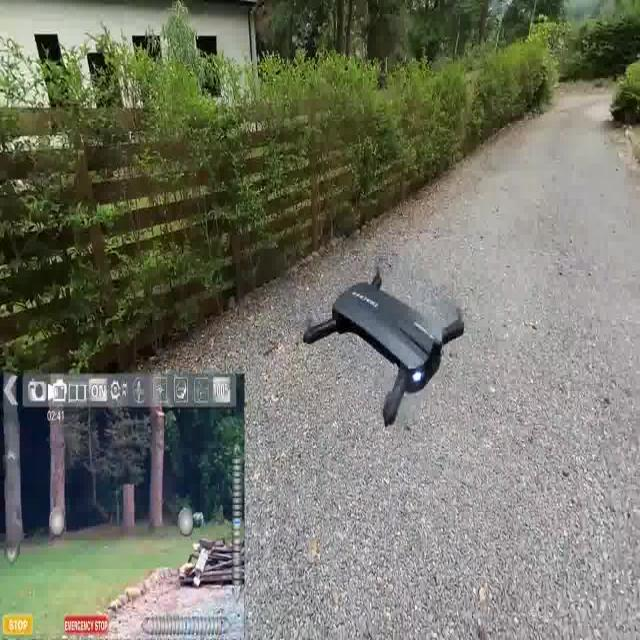drones: (297, 249, 479, 438)
